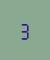three: (19, 19, 28, 40)
